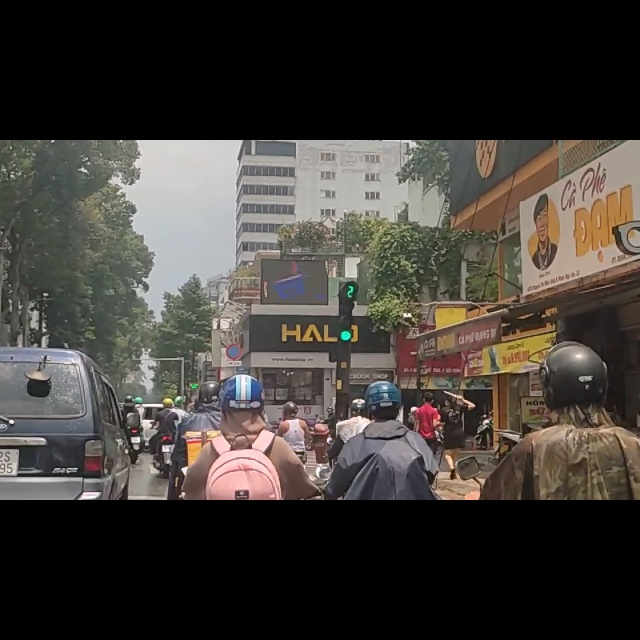bien_cam: (226, 360, 243, 389)
